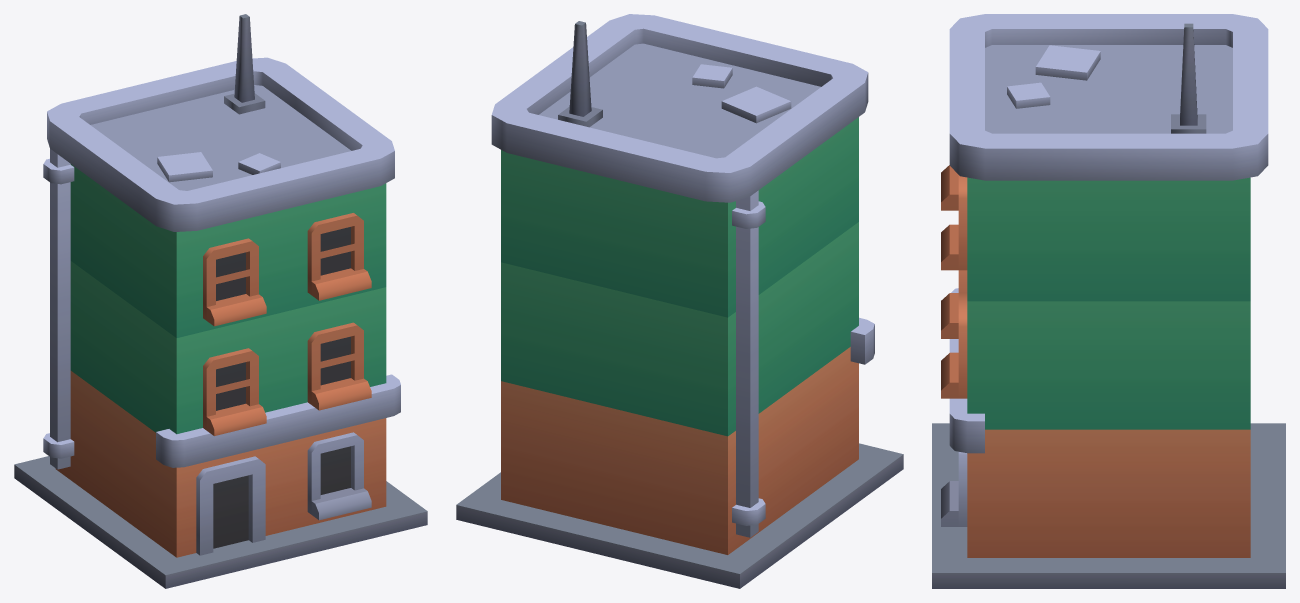
The model's file is building-small-b.glb.
The picture shows the model from 3 angles, left to right: view 1: azimuth 30°, elevation 25°; view 2: azimuth 150°, elevation 25°; view 3: azimuth 270°, elevation 25°; orthographic projection. The views are drawn at different scales.
Visible parts, largest first — view 1: building-small-b; view 2: building-small-b; view 3: building-small-b.
Boxes of the visible parts, <box> form: building-small-b: <box>14,14,427,588</box>; building-small-b: <box>456,14,903,588</box>; building-small-b: <box>932,14,1285,588</box>.
Bounding box in the file's own units: 1 × 1.63 × 1.
1 material, 1 textured.
